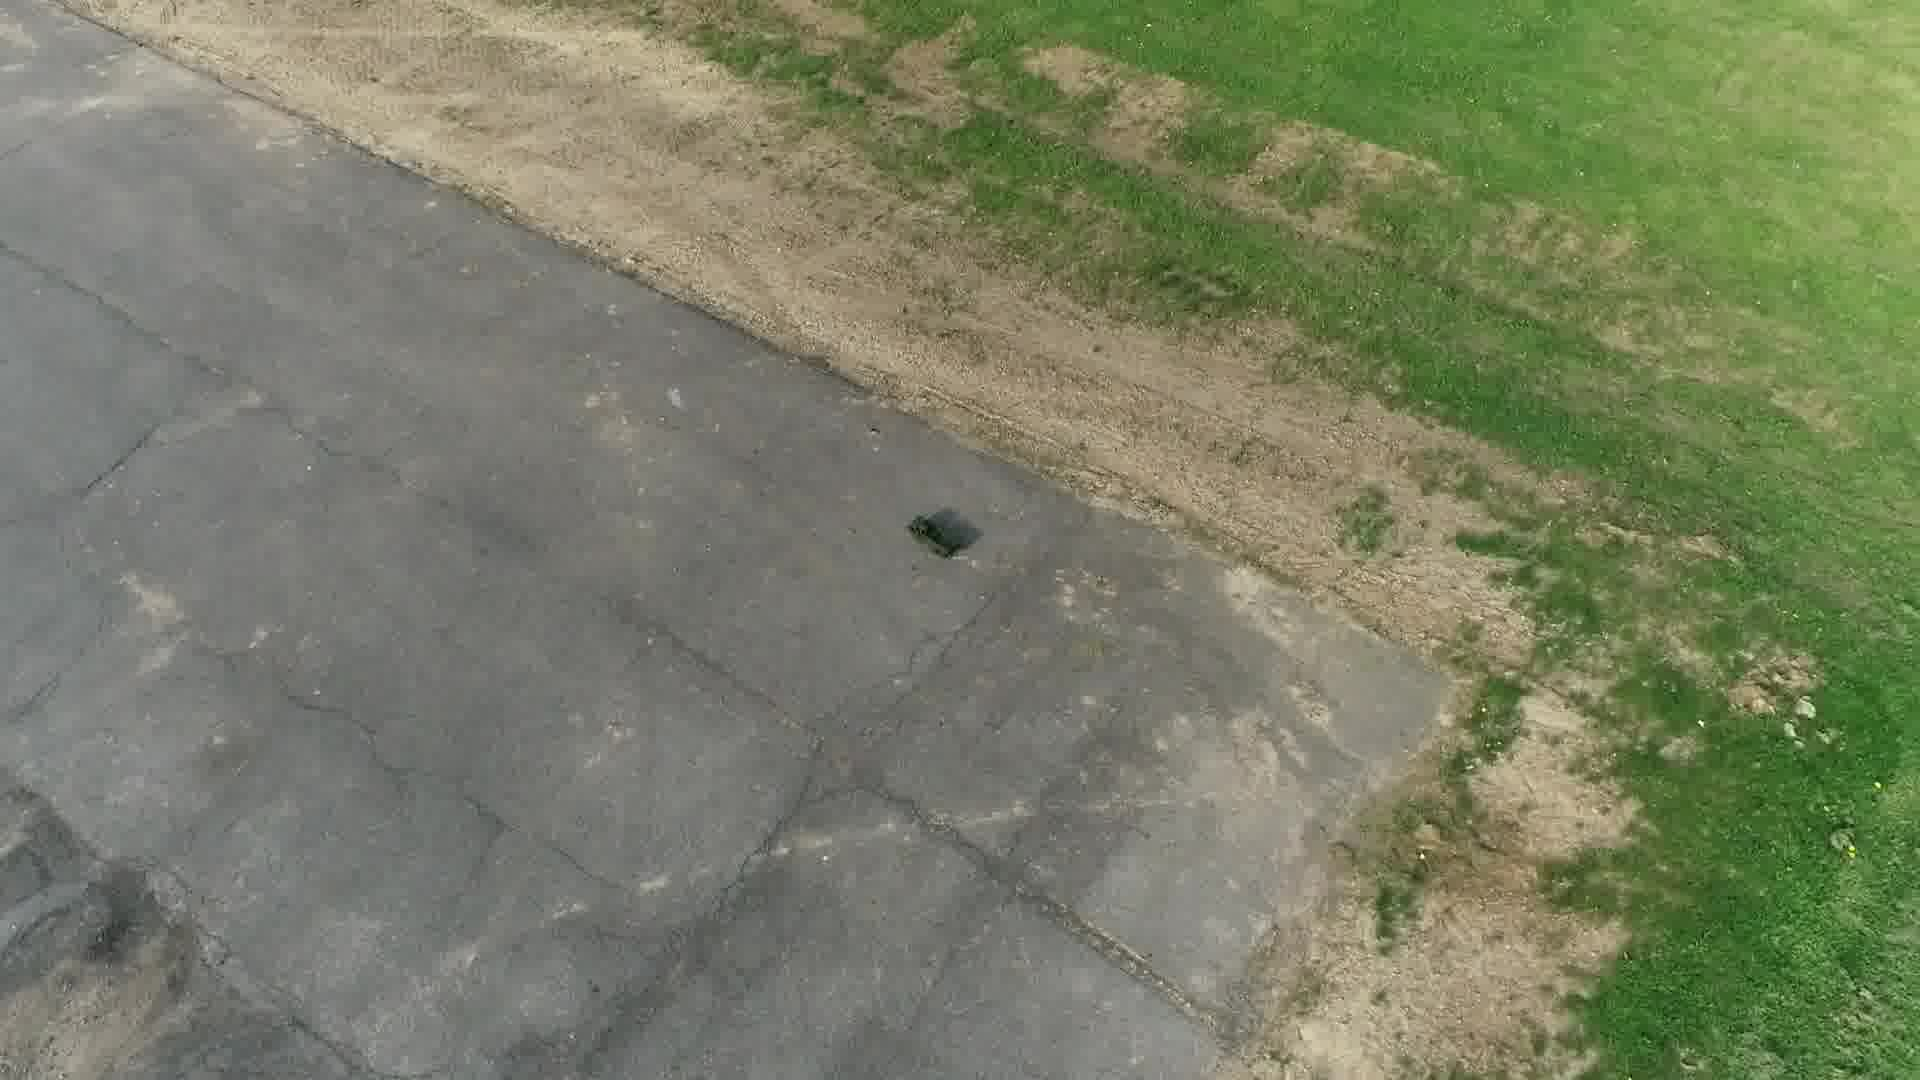transporter9: (905, 512, 965, 564)
